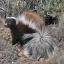skunk: (4, 12, 58, 55)
